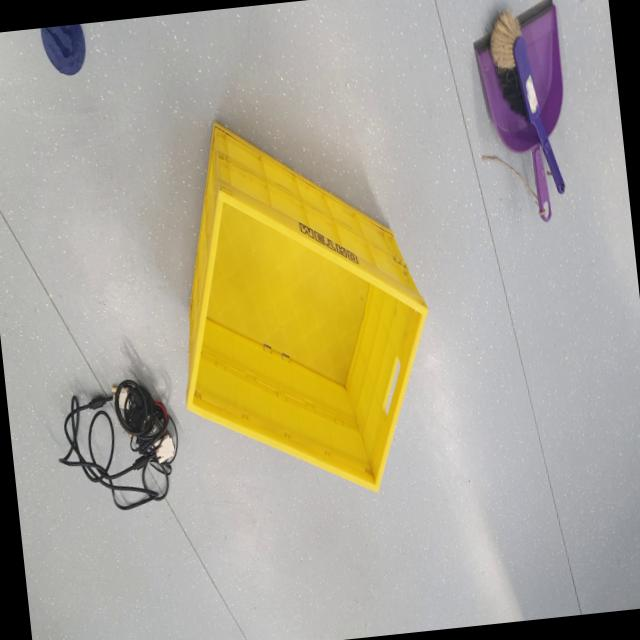box: (154, 89, 449, 521)
